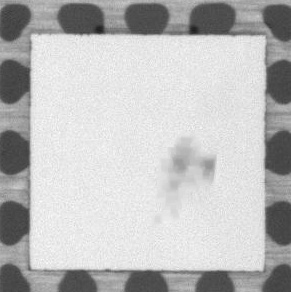DIE_INK: (138, 120, 233, 241)
